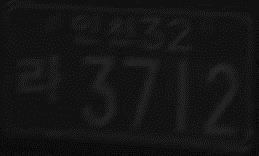1: (168, 56, 196, 129)
2: (203, 62, 239, 134), (167, 16, 190, 51)
3: (79, 55, 116, 126), (138, 16, 163, 47)
7: (119, 55, 160, 122)
라: (12, 54, 62, 95)
인천_O: (70, 13, 136, 47)
